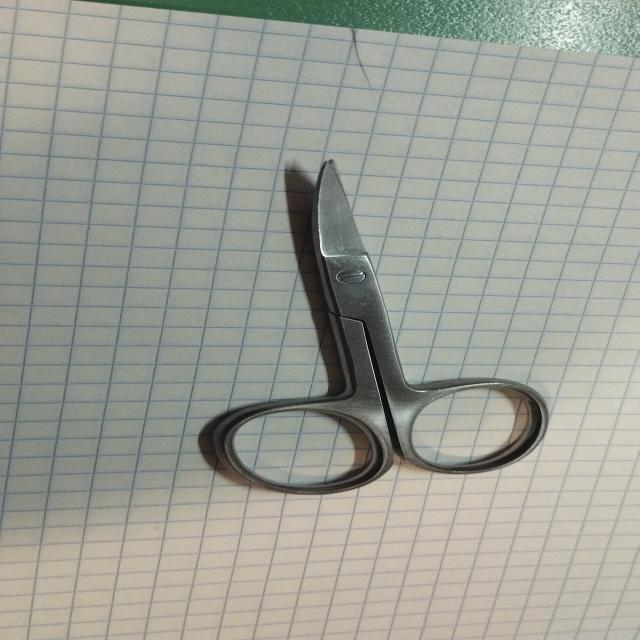tesoura: (193, 156, 557, 502)
